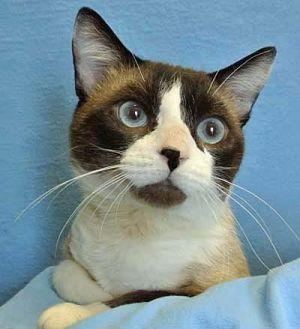ragdoll: (51, 2, 286, 232)
